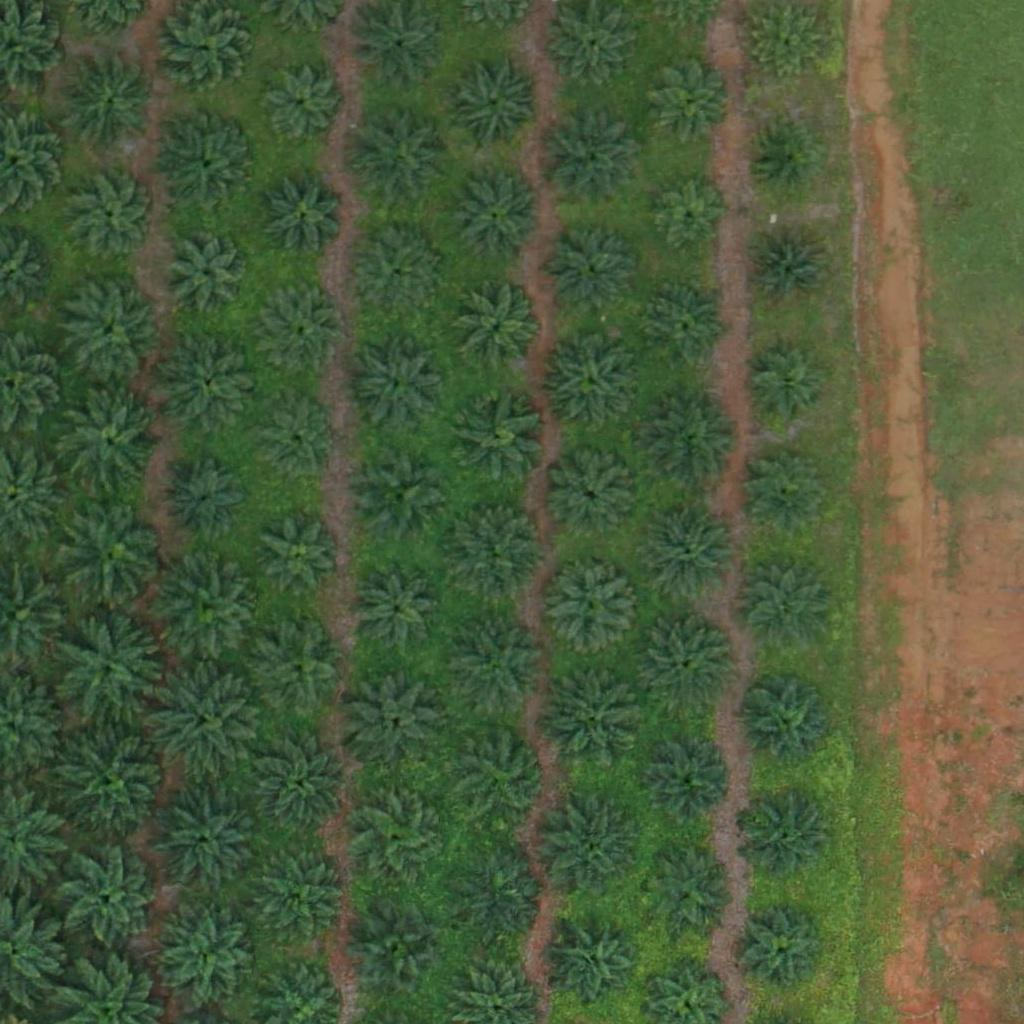Kelapa_Sawit: (51, 612, 164, 725), (149, 664, 262, 777), (152, 784, 265, 897), (58, 730, 170, 843), (537, 110, 637, 211), (442, 51, 542, 152), (161, 332, 261, 433), (59, 51, 159, 152), (60, 279, 160, 380), (60, 396, 160, 497), (59, 850, 159, 951), (251, 845, 351, 946), (351, 444, 451, 545), (446, 497, 546, 598), (451, 618, 551, 719), (542, 557, 642, 658), (541, 668, 641, 769), (542, 801, 642, 902), (644, 502, 744, 603), (637, 613, 737, 714), (736, 672, 836, 773), (640, 391, 740, 491), (540, 330, 640, 430), (446, 387, 546, 487), (351, 107, 451, 207), (346, 334, 446, 434), (159, 113, 259, 213), (61, 500, 161, 600), (159, 560, 259, 660), (247, 618, 347, 718), (345, 666, 445, 766), (454, 727, 554, 827), (453, 847, 553, 947), (548, 453, 636, 542), (742, 346, 830, 434), (645, 283, 733, 371), (547, 2, 635, 90), (546, 227, 634, 315), (259, 64, 347, 152), (353, 567, 441, 655), (352, 789, 440, 877), (355, 908, 443, 996), (642, 737, 730, 825), (744, 793, 832, 881), (740, 907, 828, 995), (643, 55, 730, 143), (746, 227, 833, 315), (451, 175, 538, 263), (454, 286, 541, 374), (354, 235, 441, 323), (166, 227, 253, 315), (68, 171, 155, 259), (164, 914, 251, 1002), (259, 738, 346, 826), (646, 849, 733, 937), (742, 447, 829, 535), (742, 562, 829, 650), (551, 921, 638, 1009), (268, 181, 343, 257), (266, 292, 341, 368), (169, 462, 244, 538), (263, 515, 338, 591), (654, 181, 729, 256), (746, 2, 821, 77), (258, 407, 333, 482), (751, 125, 814, 188)
